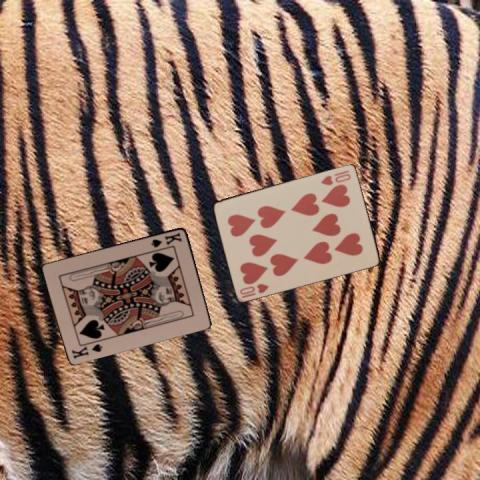10h: (318, 167, 352, 186), (237, 281, 270, 299)
Ks: (148, 229, 183, 249), (69, 341, 104, 360)
